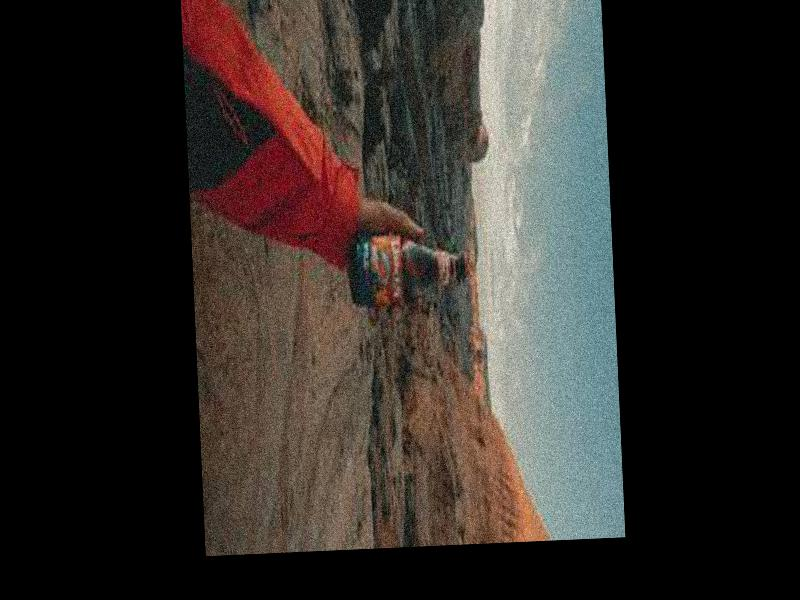Beer: (348, 223, 467, 310)
